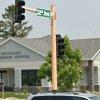traffic lights: (14, 0, 26, 25)
